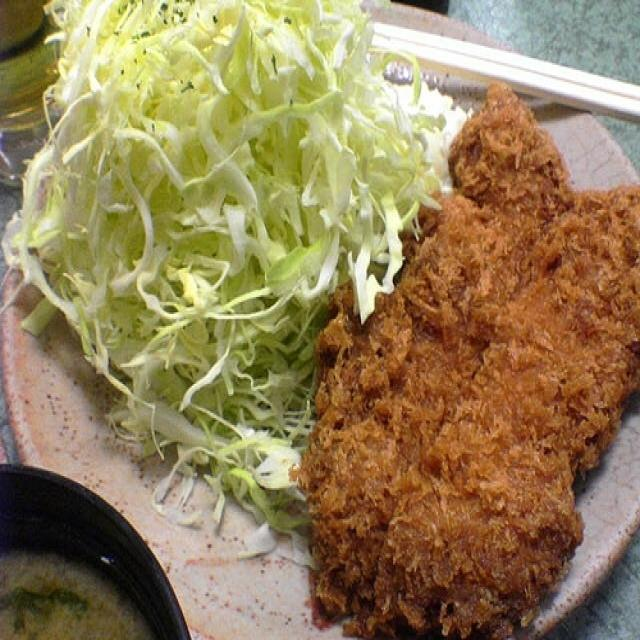牛肉菜式: (19, 7, 631, 633)
